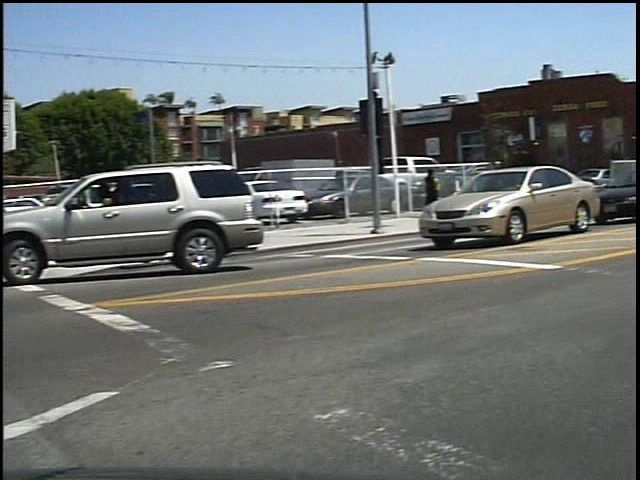person: (428, 166, 455, 225)
